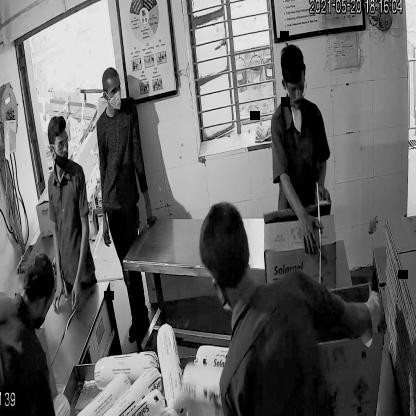goggles: (279, 71, 310, 102), (47, 138, 72, 153)
